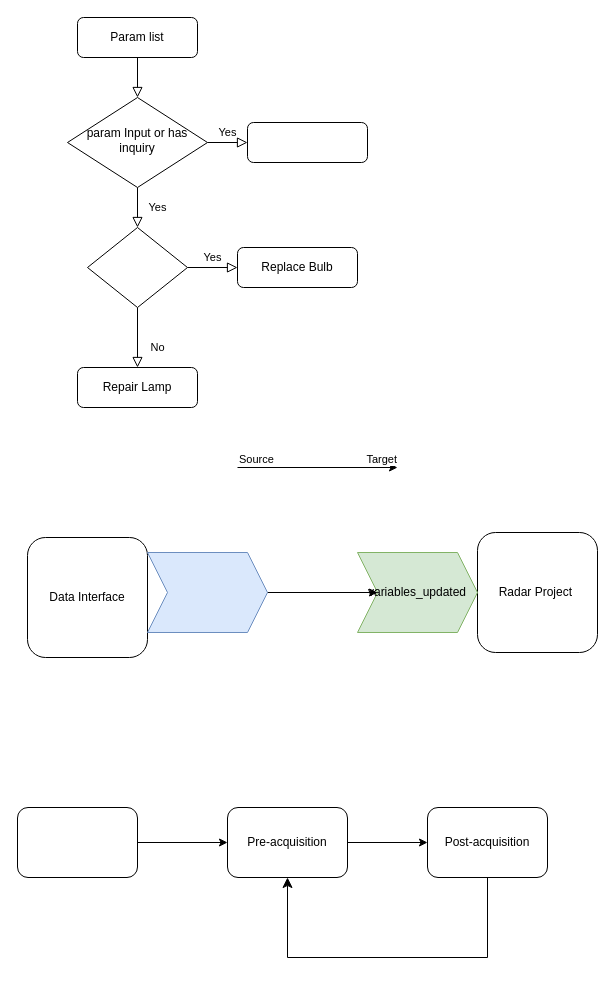
This 615x985 diagram has some shape labels left out. Each missing label, with the centre of its shape:
Add to inquiry list: pixel 307 142
Bulb burned out?: pixel 137 267
Init: pixel 77 842
updatedVariables: pixel 207 592
